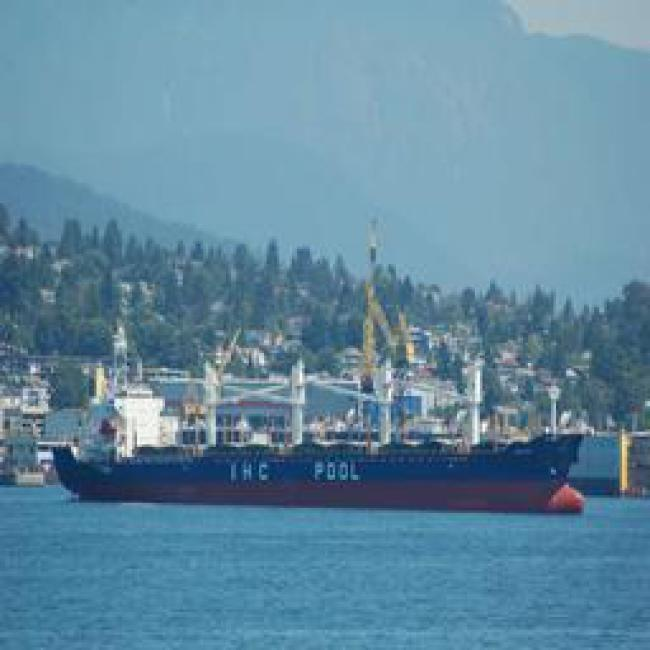Ship: (48, 437, 589, 518)
